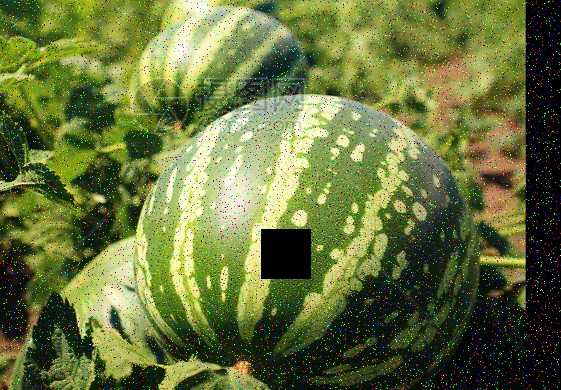watermelon: (130, 92, 471, 385), (132, 4, 304, 136)
